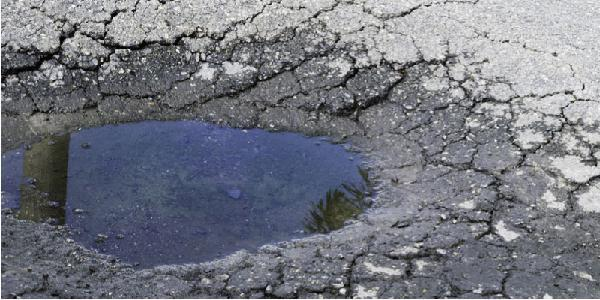pothole: (1, 52, 438, 272)
